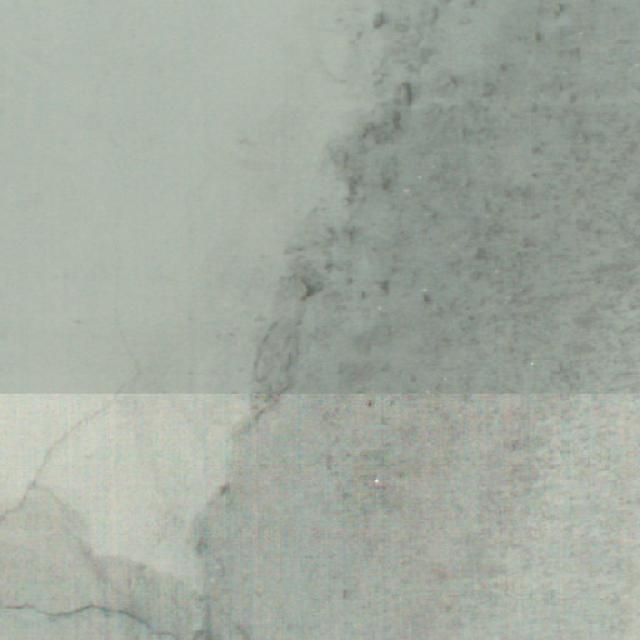Network: (0, 354, 331, 640)
